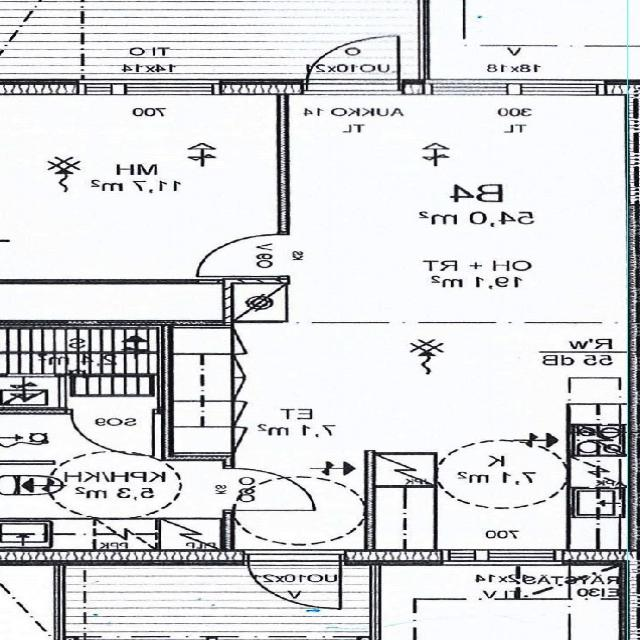door: (308, 31, 399, 94), (249, 550, 341, 612), (197, 234, 290, 276), (72, 408, 153, 455), (223, 469, 315, 510)
